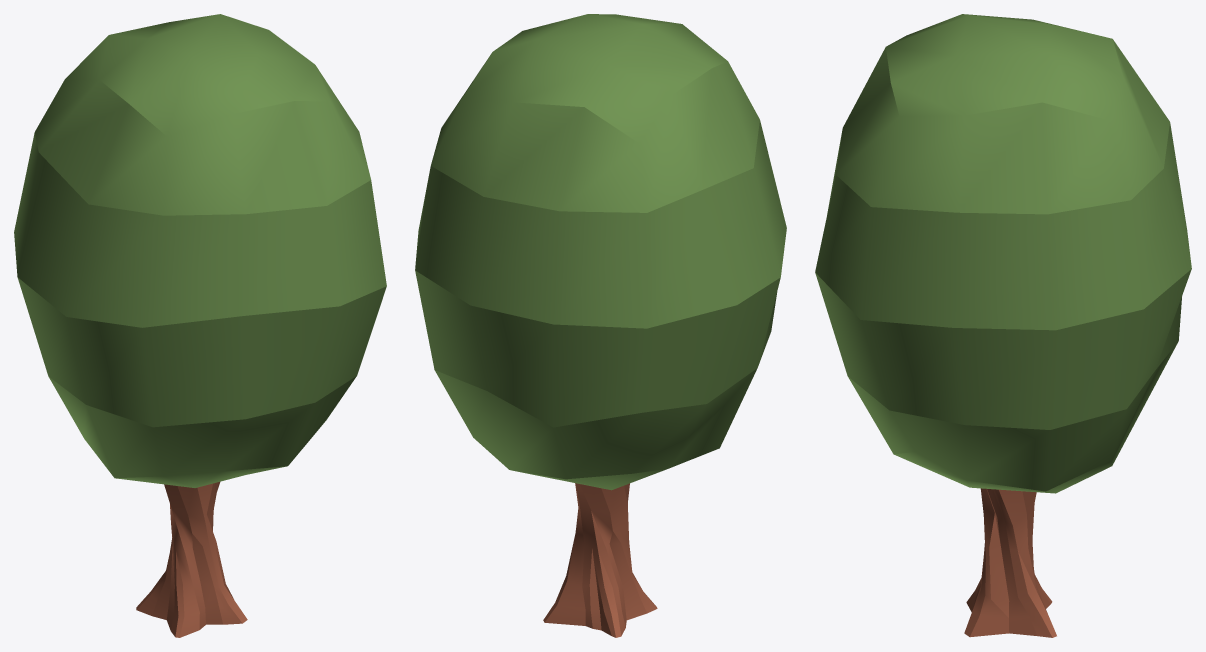
File: Tree_2_Low.fbx
3 renders of one model, left to right at view 1: azimuth 30°, elevation 25°; view 2: azimuth 150°, elevation 25°; view 3: azimuth 270°, elevation 25°, orthographic. The views are drawn at different scales.
Visible parts, largest first — view 1: Tree_2_Low; view 2: Tree_2_Low; view 3: Tree_2_Low.
Part boxes in pixels (x1,y1,x2,y2): Tree_2_Low: [14, 14, 386, 637]; Tree_2_Low: [415, 14, 786, 637]; Tree_2_Low: [815, 14, 1191, 637].
Size of the model in its own units: 101 by 178 by 102.
